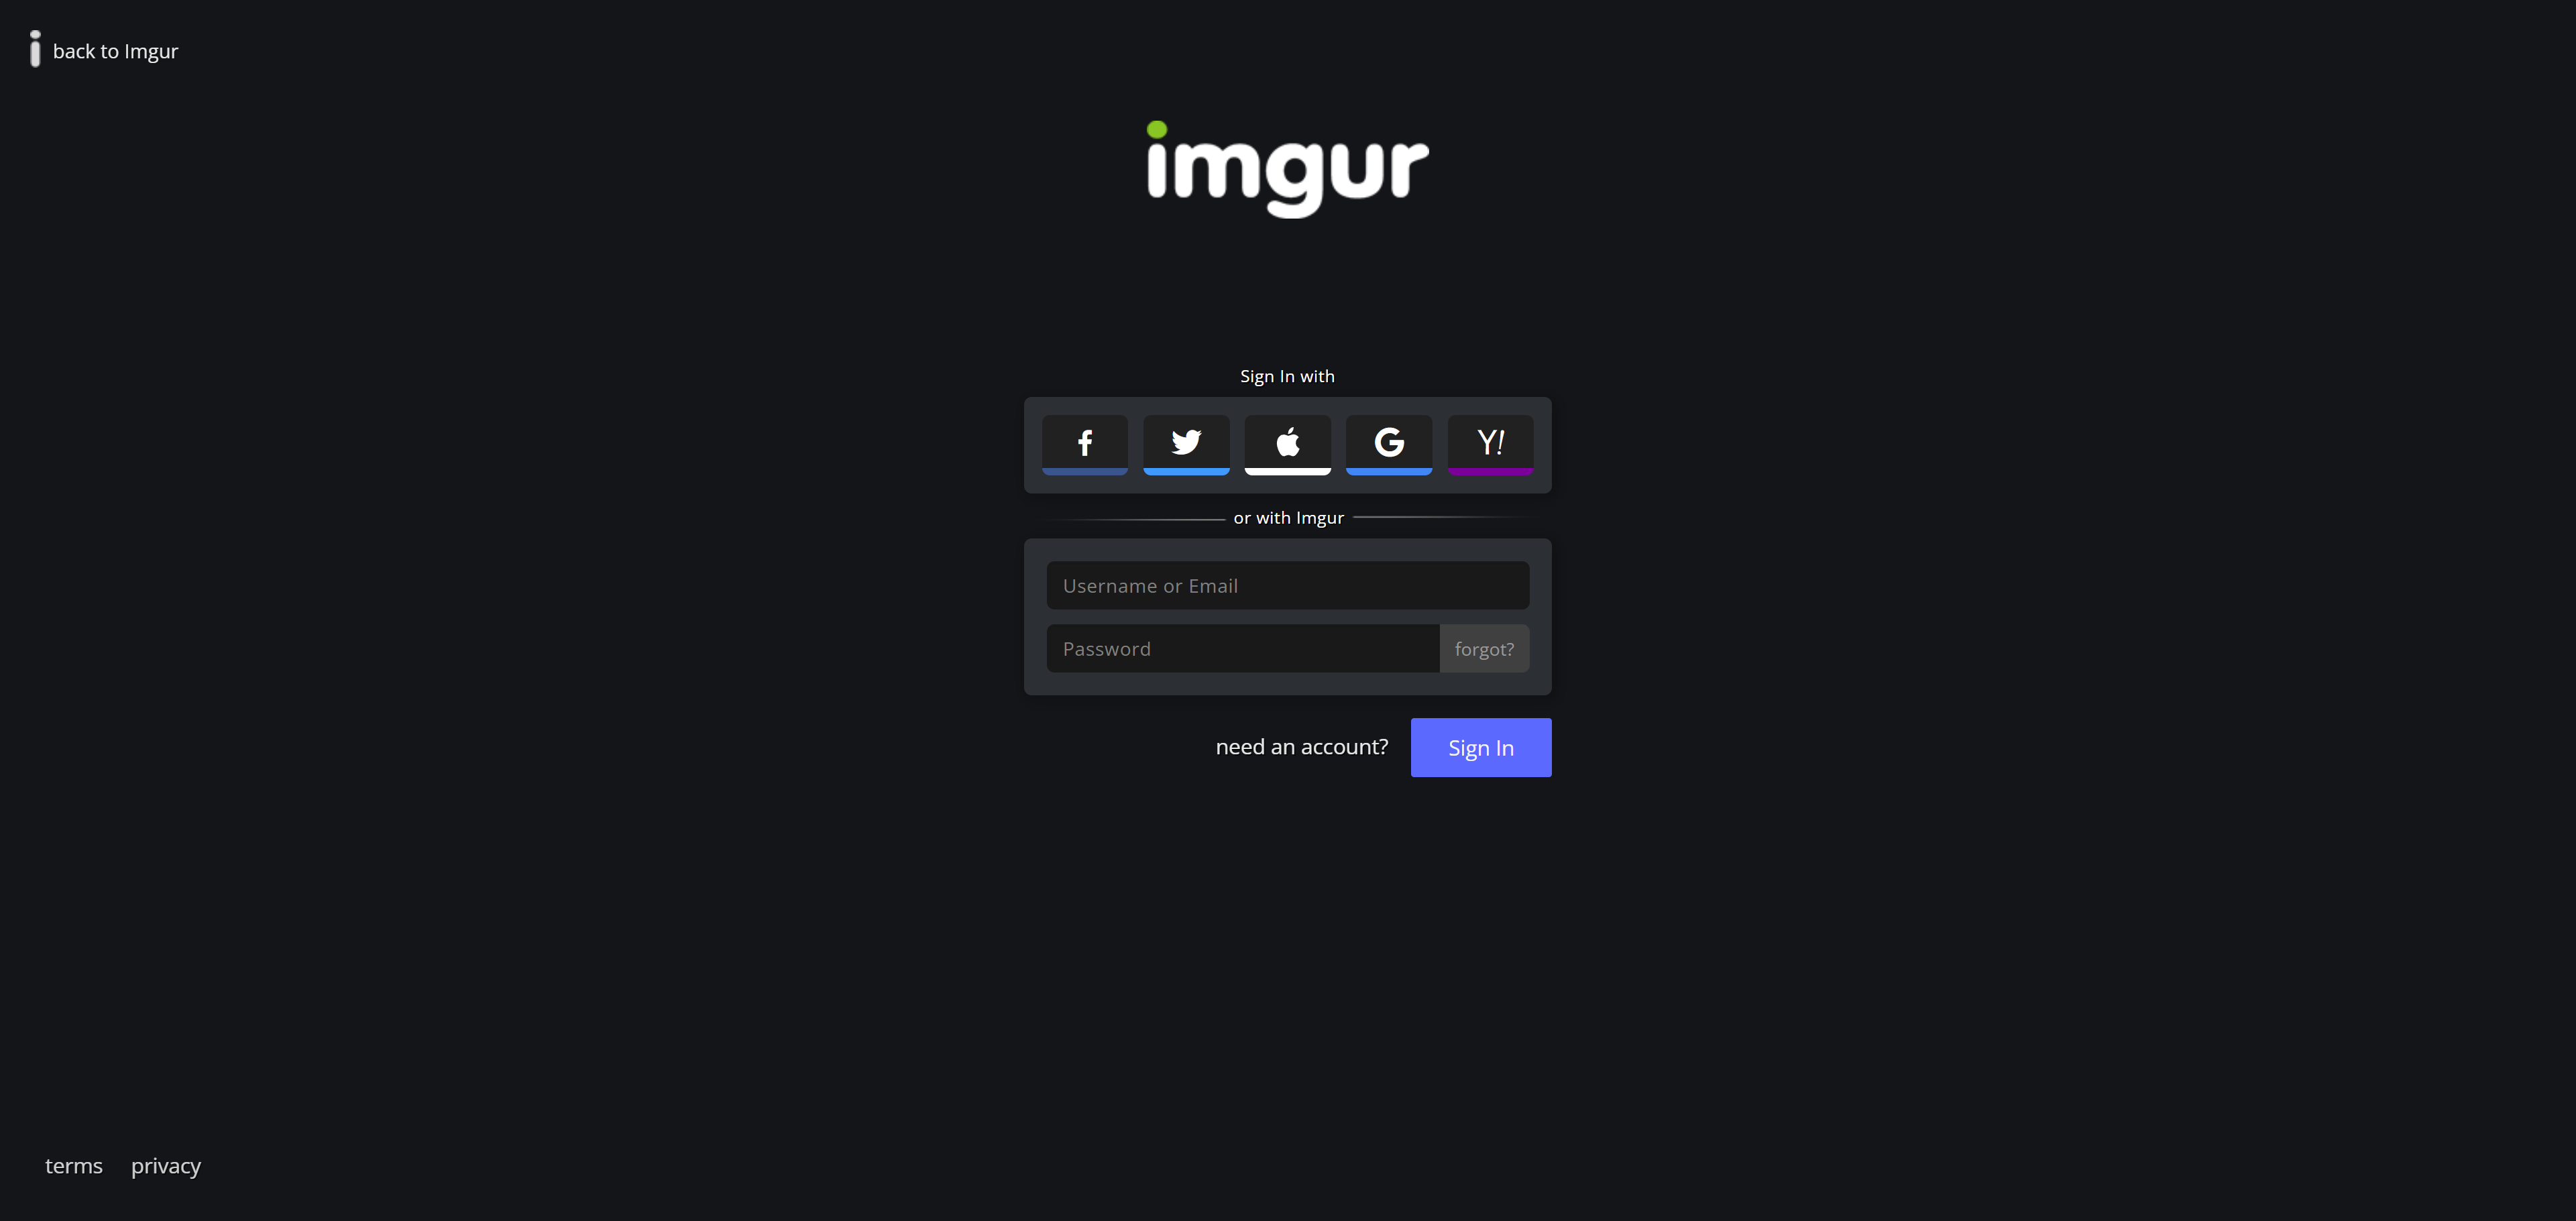login_button: (1410, 718, 1552, 777)
login_form: (1020, 529, 1557, 787)
